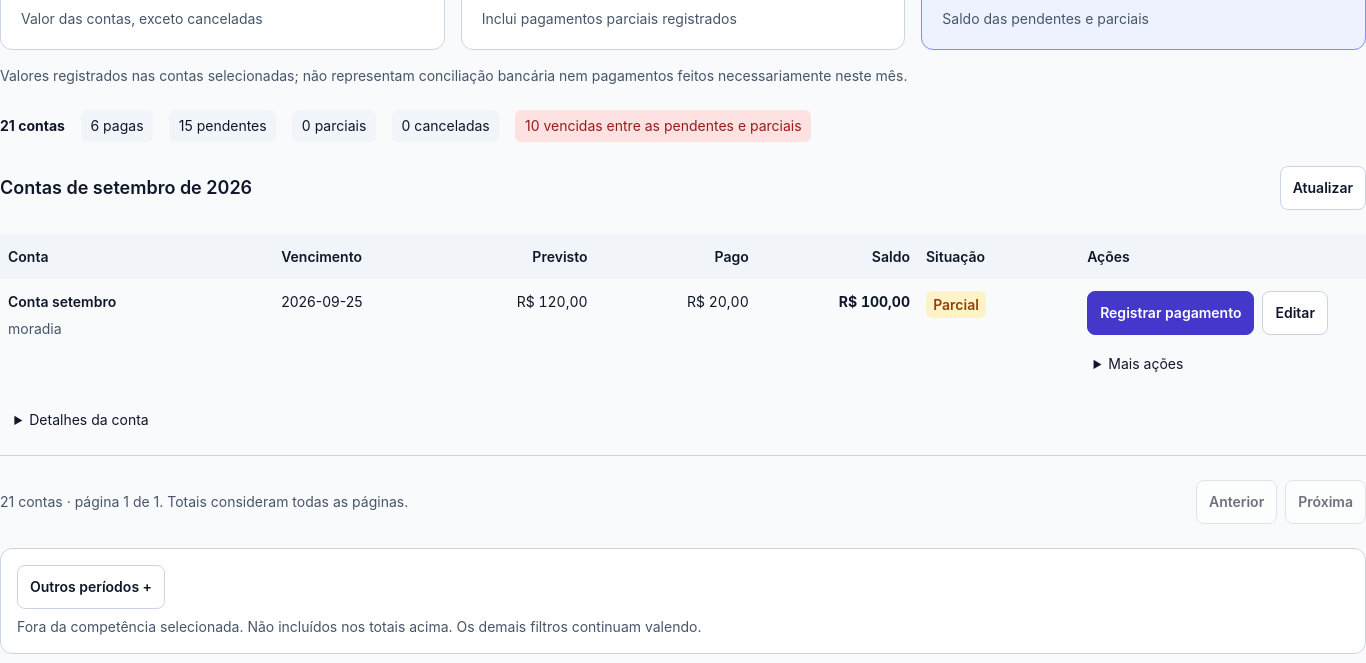
Scenario: FinancialExpensesPage integration › cancelar pagamento não escreve e confirmar impede envio duplicado
(page scrolled)
Click the button "Registrar pagamento": (1171, 313) [1087,291,1254,335]
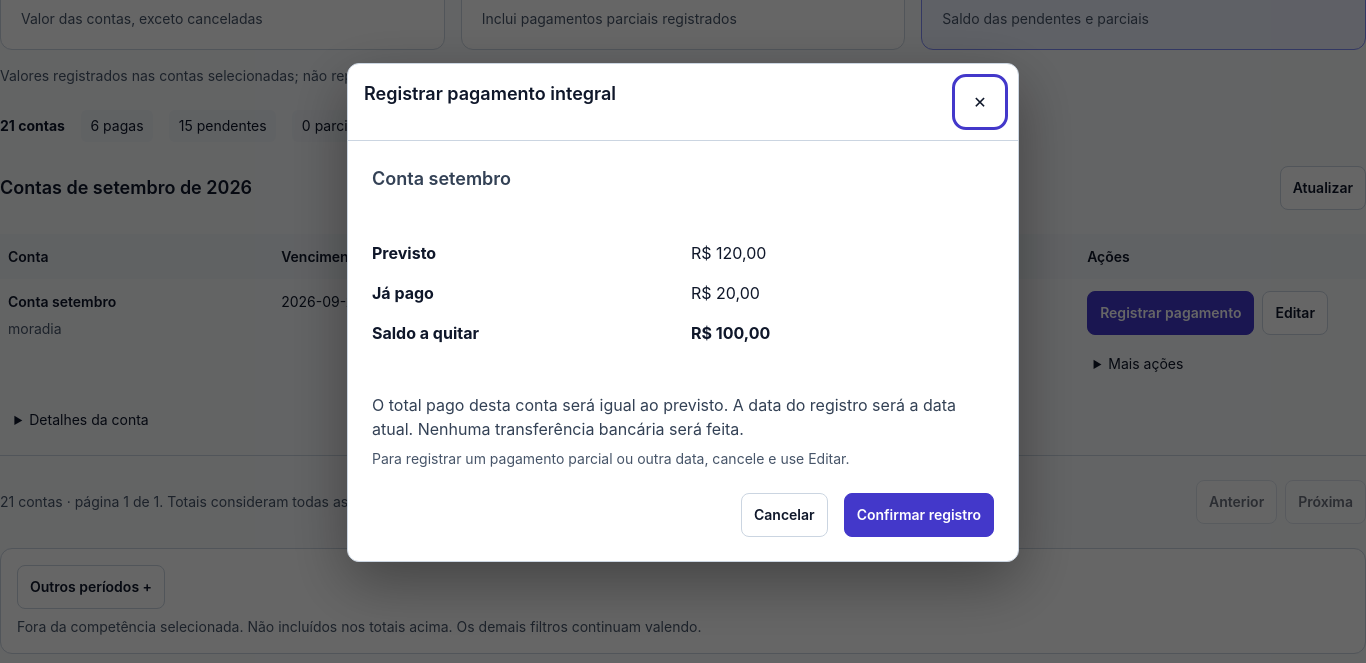
Expected: the text "R$ 100,00" is shown, [691,322,770,342]
Click the button "Cancelar": (784, 514) [741,492,828,536]
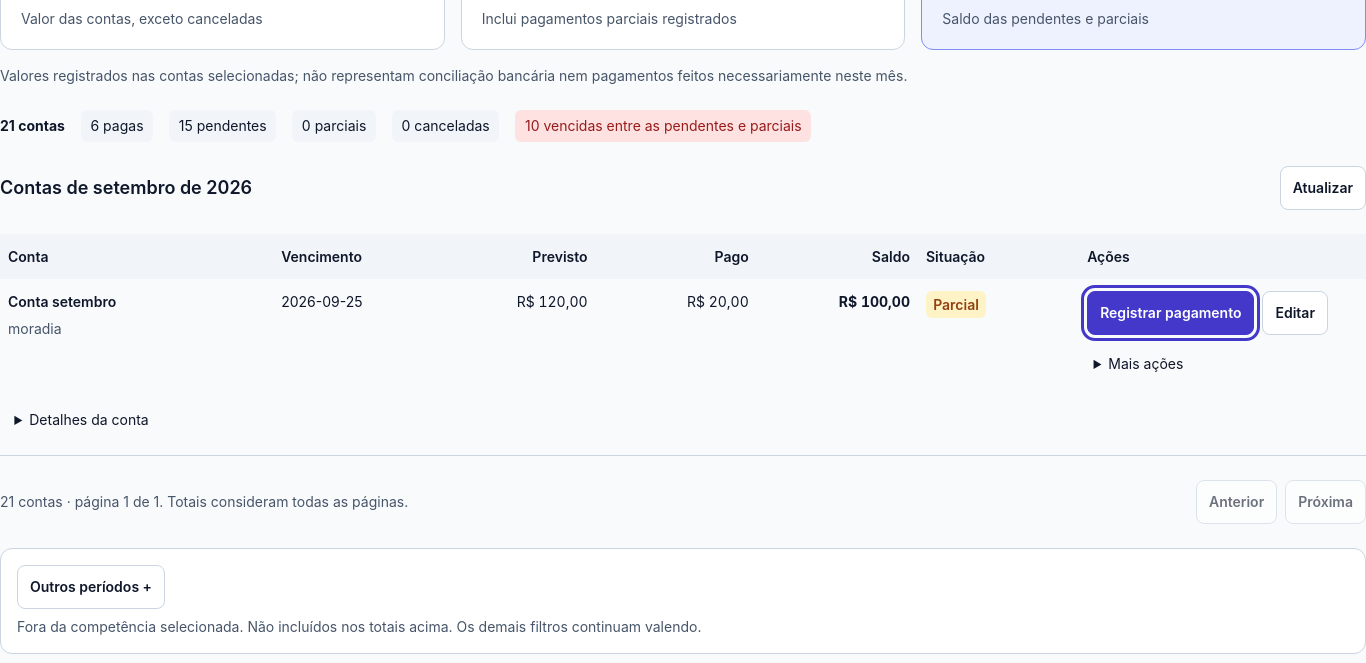
Expected: the dialog is gone
Click the button "Registrar pagamento": (1171, 313) [1087,291,1254,335]
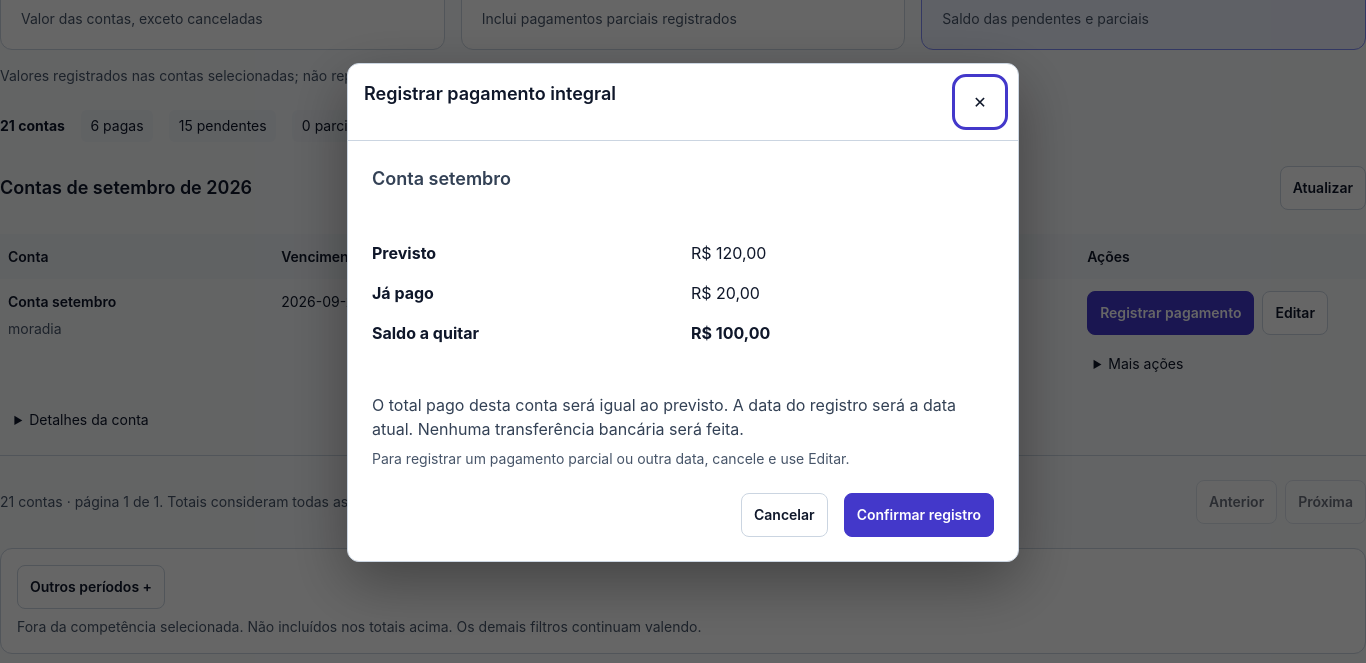
Click the button "Confirmar registro": (919, 514) [844,492,994,536]
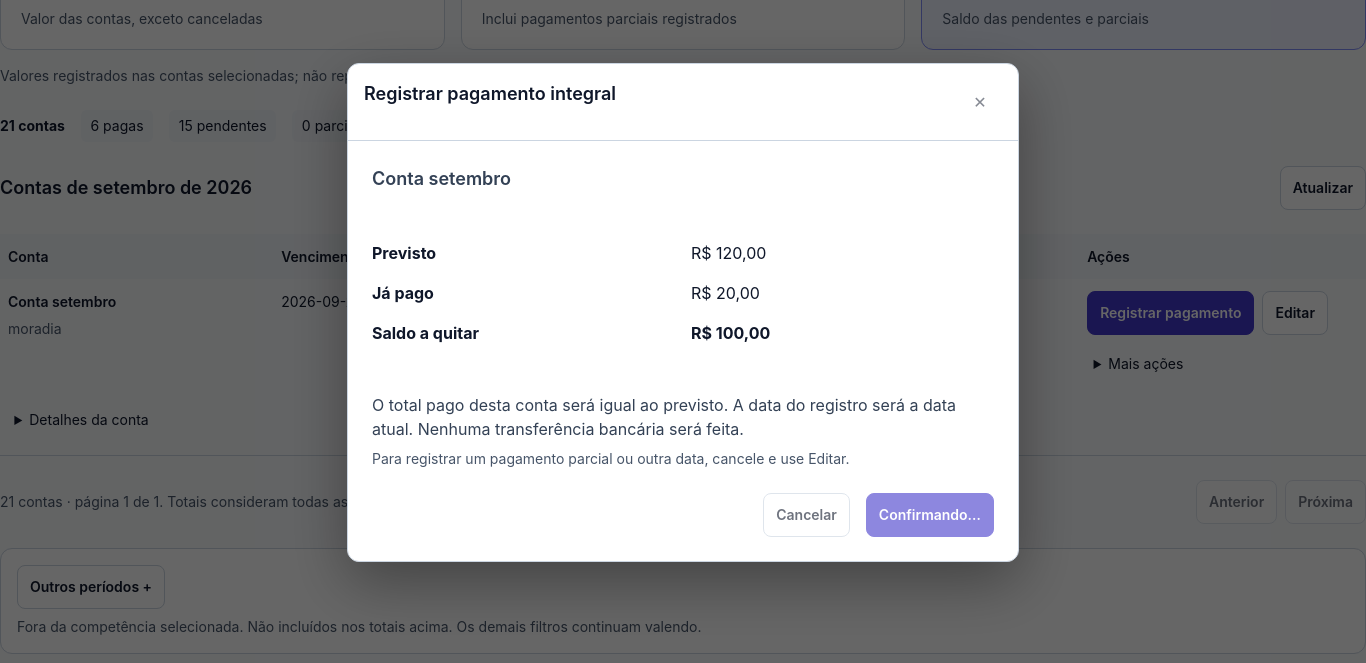
Click the button named "Confirmar registro": (930, 514) [866,492,994,536]
(page scrolled)
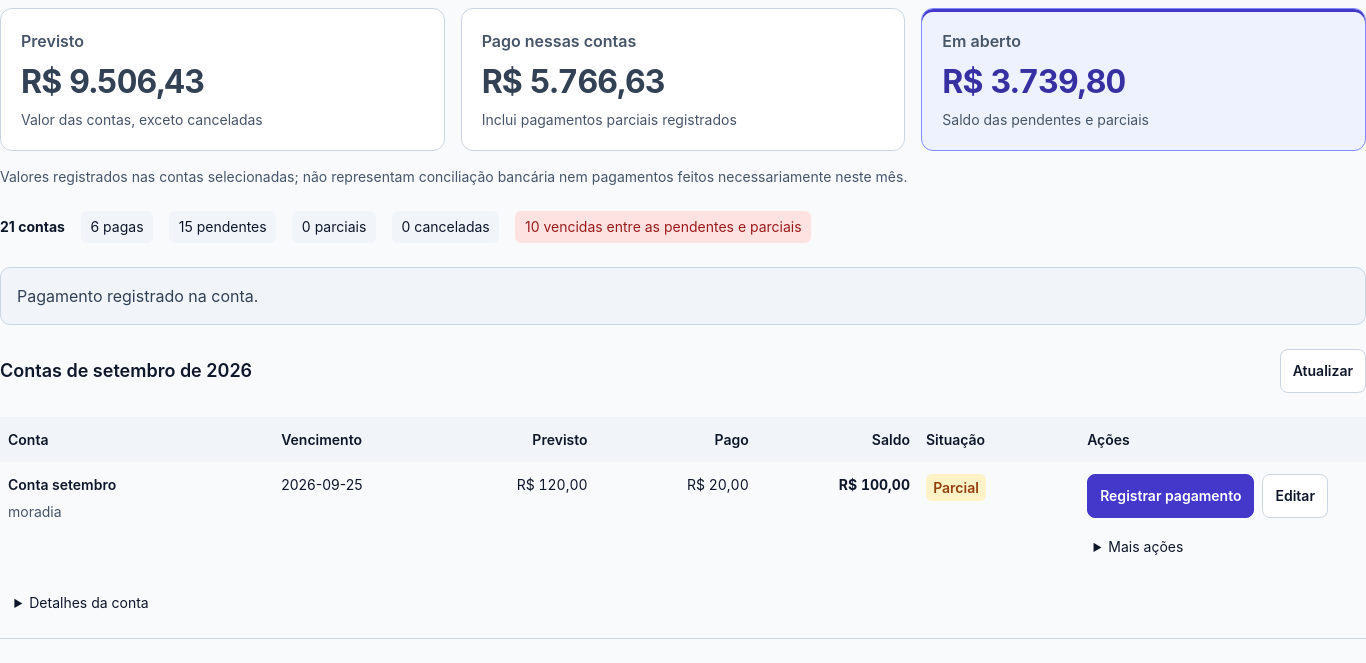
Expected: the dialog is gone
Expected: the text "Pagamento registrado na conta." is shown, [0,267,1365,325]
